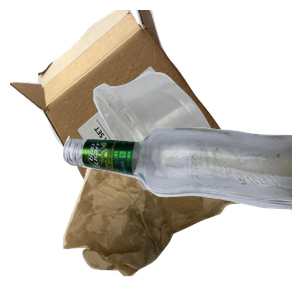cardboard: (10, 10, 227, 190)
glass: (60, 124, 300, 300)
plastic: (91, 69, 300, 249)
trash: (60, 142, 300, 300)
